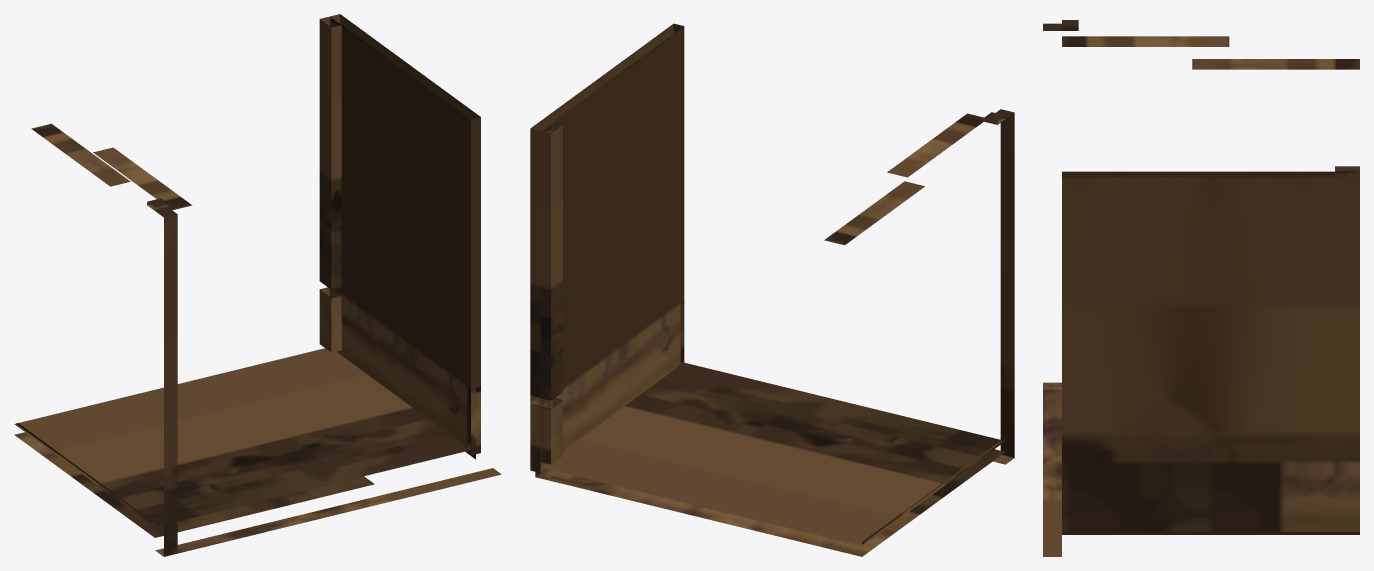
Rendered from section-3.obj.
The picture shows the model from 3 angles, left to right: view 1: azimuth 30°, elevation 25°; view 2: azimuth 150°, elevation 25°; view 3: azimuth 270°, elevation 25°; orthographic projection. The views are drawn at different scales.
Size of the model in its own units: 0.99 by 0.99 by 0.76.
